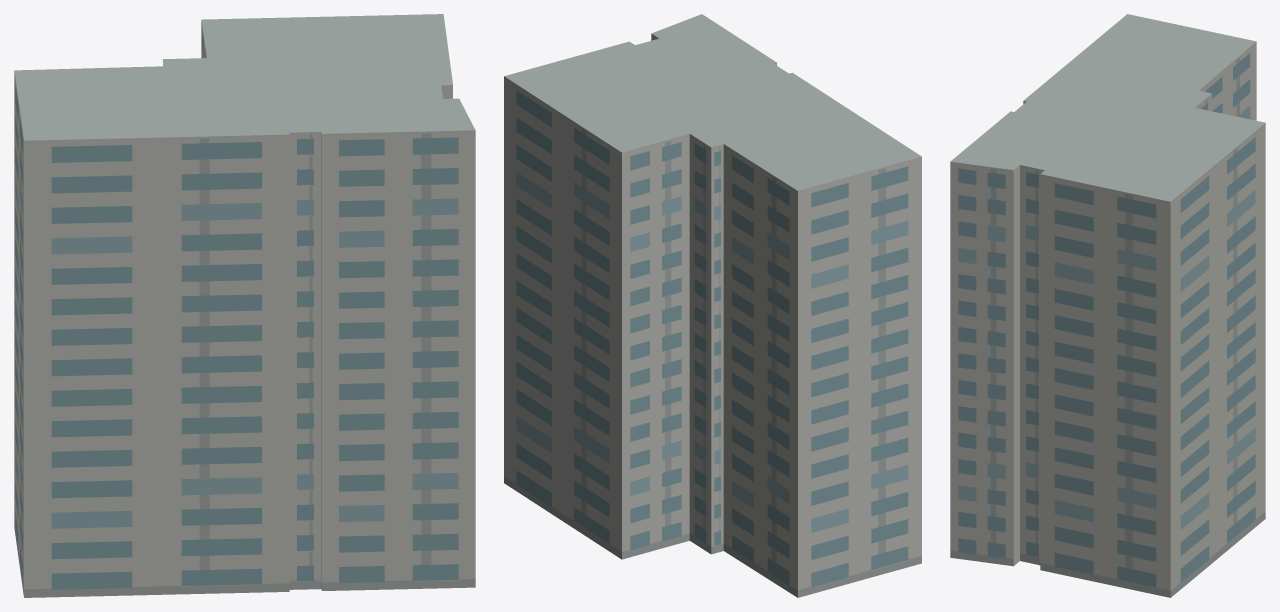
File: survey-upis-32518472.glb
3 renders of one model, left to right at view 1: azimuth 30°, elevation 25°; view 2: azimuth 150°, elevation 25°; view 3: azimuth 270°, elevation 25°, orthographic. The views are drawn at different scales.
Parts seen in each view (by area): view 1: survey-upis-32518472.tmp; view 2: survey-upis-32518472.tmp; view 3: survey-upis-32518472.tmp.
Boxes of the visible parts, <box> form: survey-upis-32518472.tmp: <box>14,14,475,597</box>; survey-upis-32518472.tmp: <box>504,14,921,597</box>; survey-upis-32518472.tmp: <box>950,14,1265,597</box>.
Bounding box in the file's own units: 60.94 × 59.9 × 43.24.
